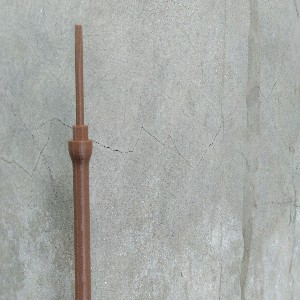obeng: (67, 24, 93, 300)
